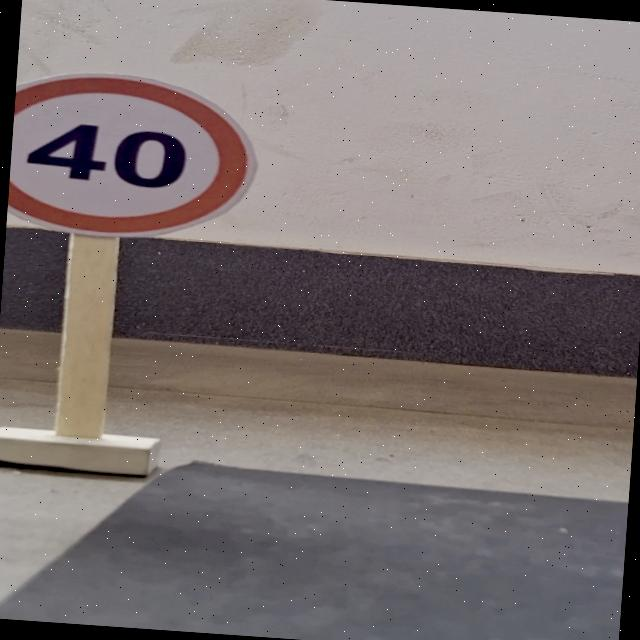Speed40: (5, 69, 268, 248)
